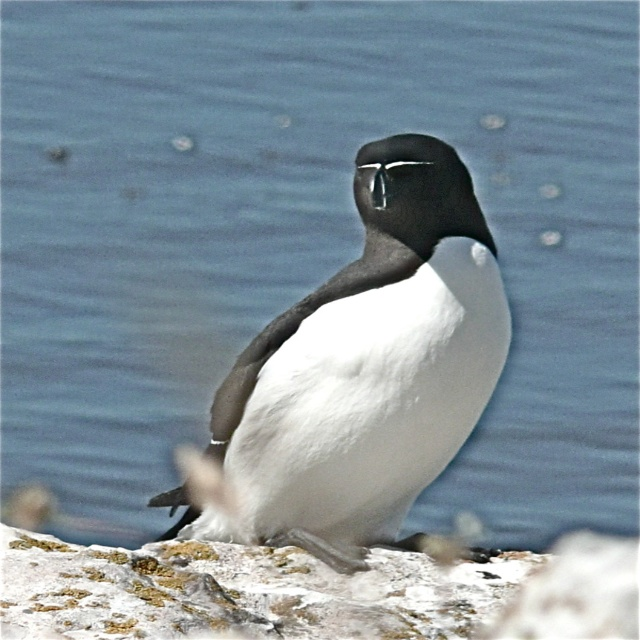Penguin: (149, 138, 516, 577)
